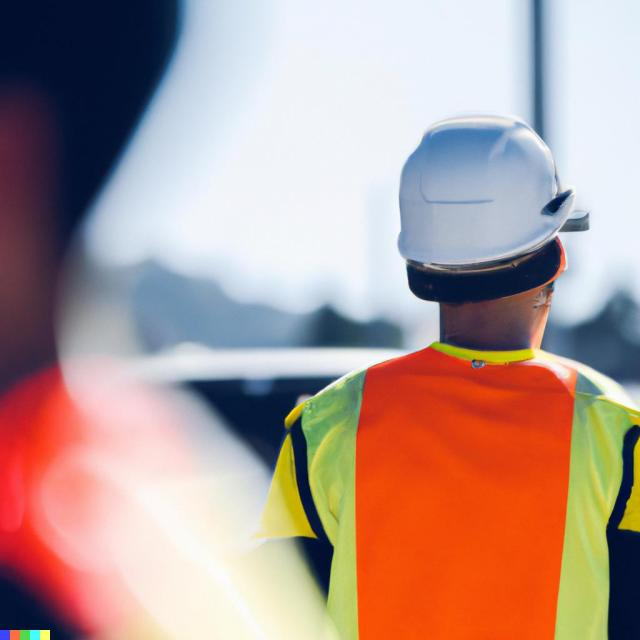Reflective-Jacket: (267, 339, 638, 639)
Safety-Helmet: (386, 109, 580, 304)
